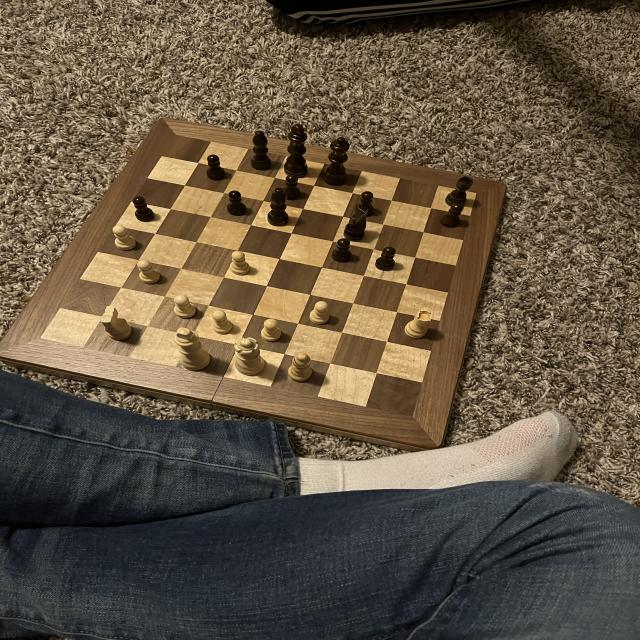bishop: (243, 126, 274, 173), (262, 186, 293, 230)
black-bishop: (280, 122, 315, 179)
black-king: (341, 204, 374, 243)
black-knight: (128, 193, 158, 224), (328, 237, 358, 265), (278, 174, 307, 202), (202, 152, 229, 182), (222, 189, 251, 216), (374, 246, 400, 274), (356, 187, 377, 217)
black-pawn: (320, 134, 350, 188)
black-queen: (442, 174, 476, 212)
black-rook: (285, 350, 316, 384)
white-bishop: (174, 326, 214, 373)
white-king: (96, 303, 135, 344)
white-knight: (110, 222, 140, 252), (226, 248, 256, 278), (136, 257, 163, 287), (171, 292, 199, 320), (209, 308, 236, 336), (258, 315, 284, 344), (307, 299, 332, 329)
white-pawn: (231, 335, 269, 380)
white-queen: (402, 307, 435, 341)
